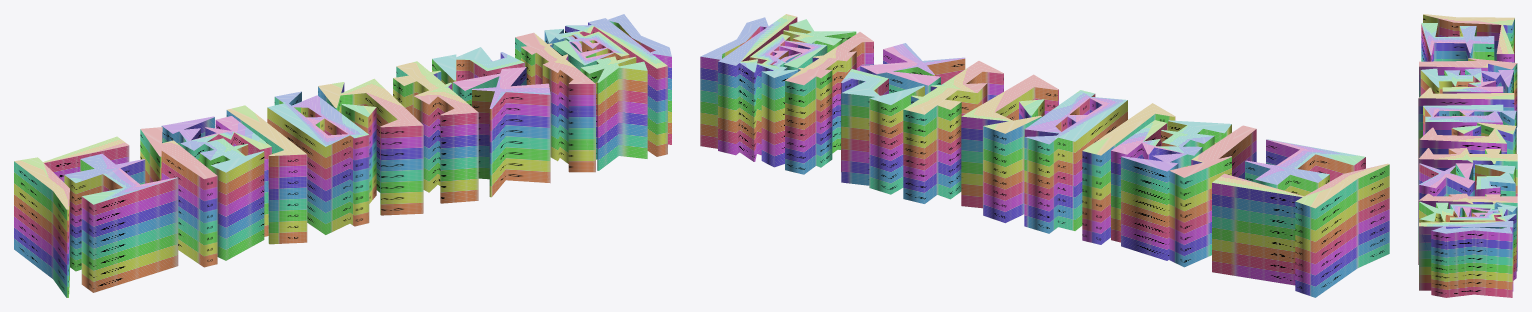
The model's file is titleTex.obj.
3 views of the same model, side by side, from view 1: azimuth 30°, elevation 25°; view 2: azimuth 150°, elevation 25°; view 3: azimuth 270°, elevation 25° (orthographic). The views are drawn at different scales.
Parts seen in each view (by area): view 1: テキスト; view 2: テキスト; view 3: テキスト.
Boxes of the visible parts, box(x1,y1,x2,y2) form: テキスト: box(14, 14, 671, 297); テキスト: box(700, 14, 1389, 297); テキスト: box(1418, 14, 1517, 297).
Bounding box in the file's own units: 3.67 × 0.5 × 0.6981.
Materials: 1 (1 with a texture image).
